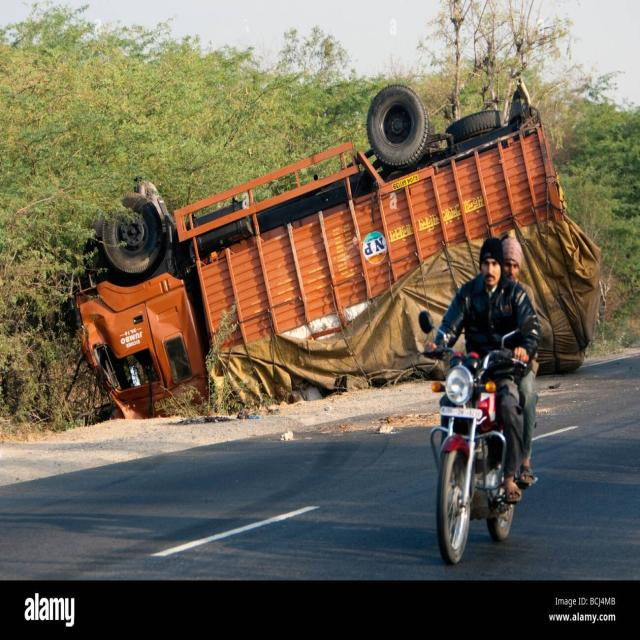accident: (71, 83, 599, 419)
motorcycle: (419, 236, 540, 563)
